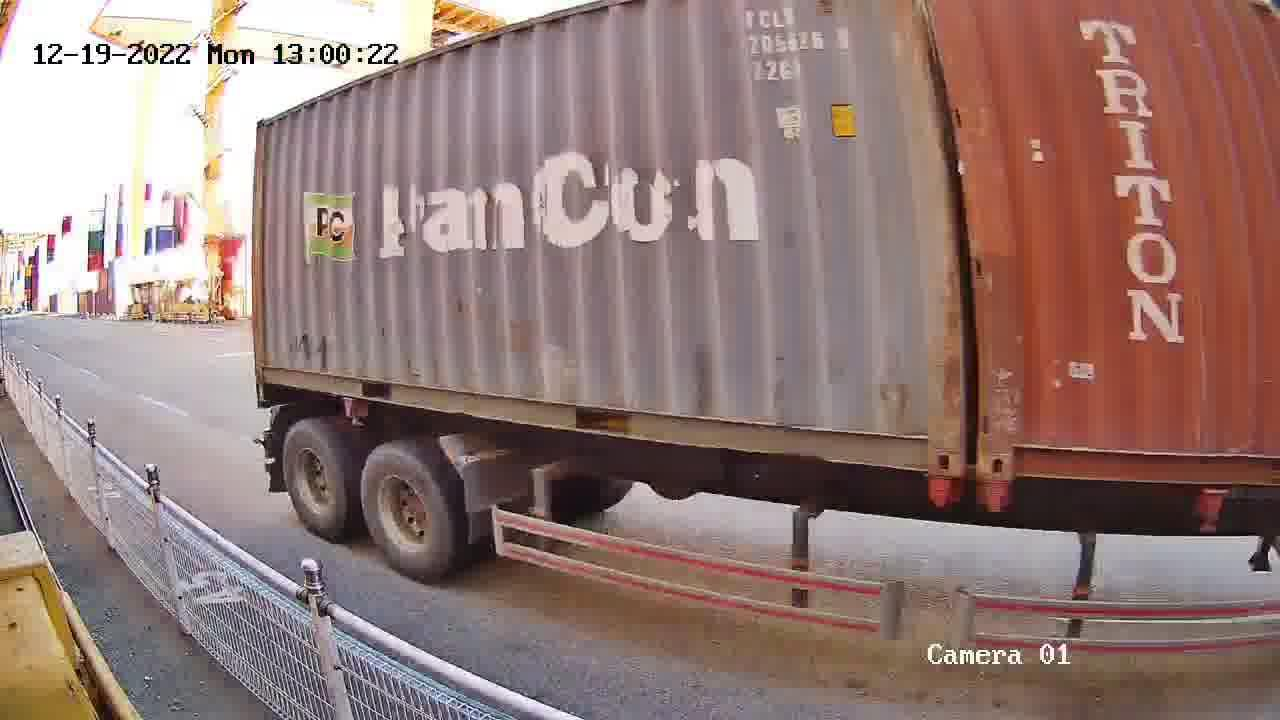Cone: (978, 480, 1012, 510), (929, 477, 960, 509)
Hole_L: (977, 419, 1049, 481), (254, 358, 277, 384)
Hole_R: (890, 411, 963, 480)
Tire: (362, 445, 450, 579), (285, 423, 343, 531)
